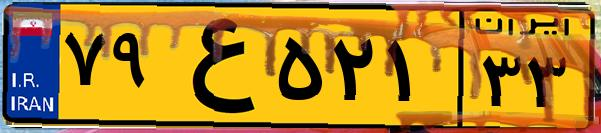1: (385, 28, 445, 110)
2: (330, 28, 385, 110)
3: (475, 38, 525, 113), (525, 38, 570, 115)
5: (270, 28, 330, 110)
7: (57, 26, 110, 100)
9: (110, 28, 158, 98)
ع: (158, 12, 270, 120)
